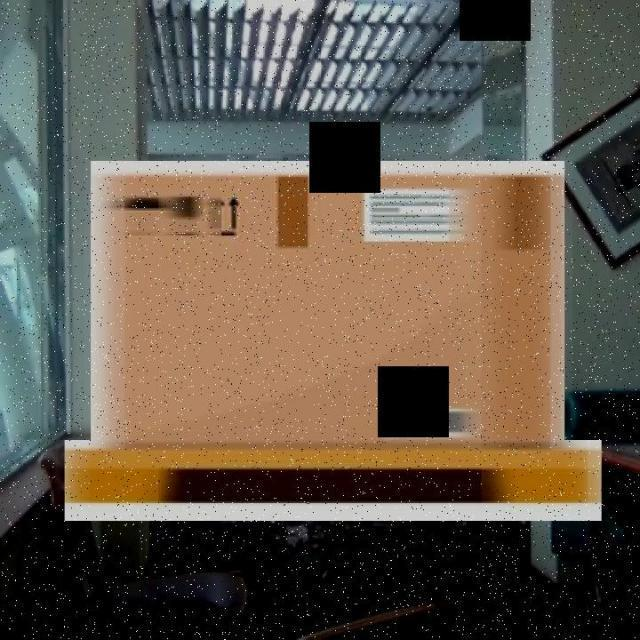box: (85, 156, 572, 450), (56, 440, 612, 522)
